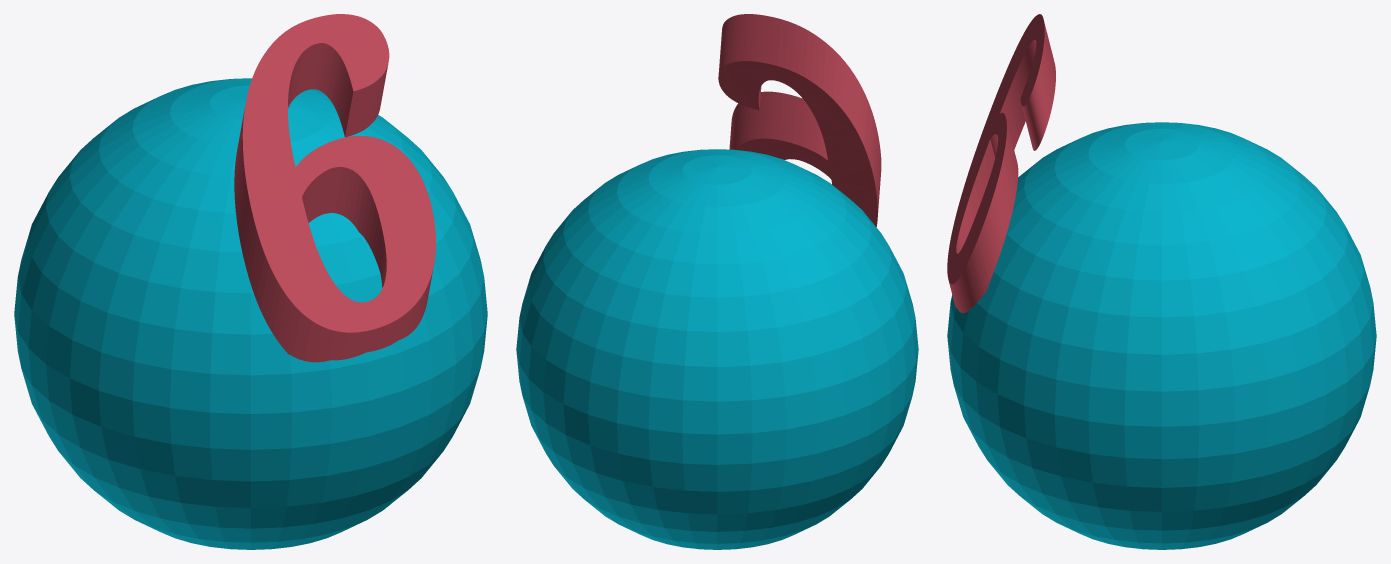
Rendered from number_6.glb.
The picture shows the model from 3 angles, left to right: view 1: azimuth 30°, elevation 25°; view 2: azimuth 150°, elevation 25°; view 3: azimuth 270°, elevation 25°; orthographic projection. The views are drawn at different scales.
Parts seen in each view (by area): view 1: Mesh_Mesh_head_geo.001_lambert2SG.001; view 2: Mesh_Mesh_head_geo.001_lambert2SG.001; view 3: Mesh_Mesh_head_geo.001_lambert2SG.001.
Boxes of the visible parts, x1=… form: Mesh_Mesh_head_geo.001_lambert2SG.001: x1=14, y1=14, x2=487, y2=549; Mesh_Mesh_head_geo.001_lambert2SG.001: x1=516, y1=14, x2=918, y2=549; Mesh_Mesh_head_geo.001_lambert2SG.001: x1=947, y1=14, x2=1376, y2=549.
Size of the model in its own units: 20 by 26.03 by 20.
